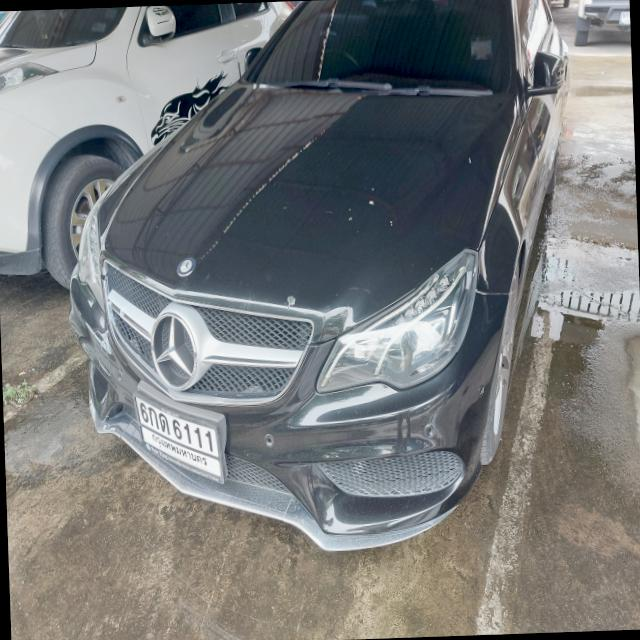license_plate: (132, 385, 226, 490)
